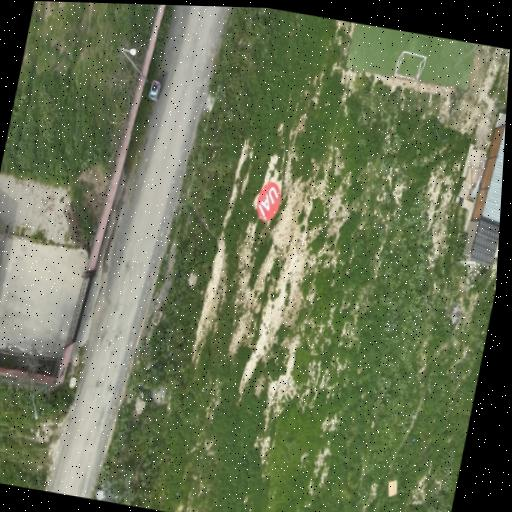car: (149, 80, 159, 99)
uai: (256, 181, 280, 221)
